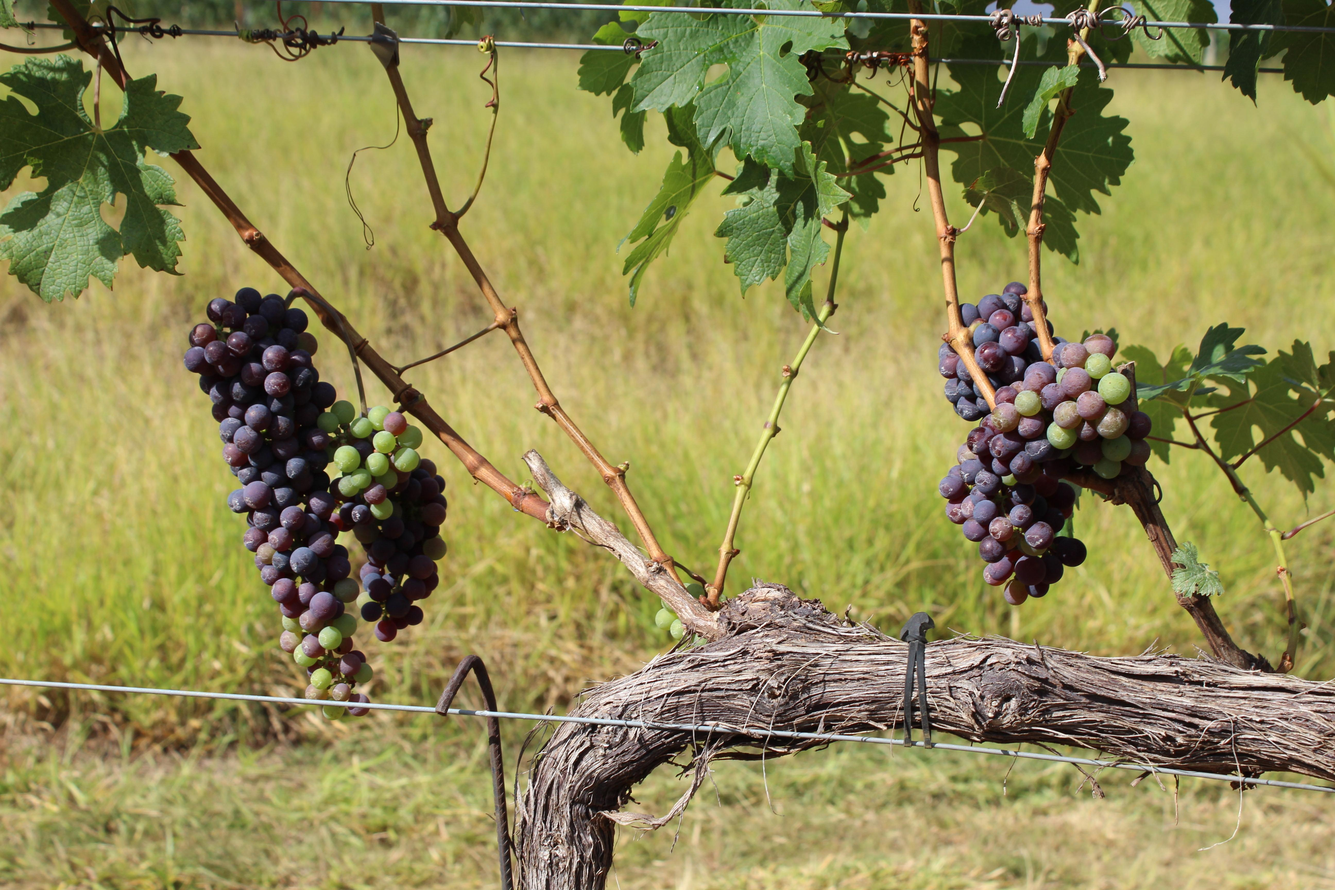leaf: (0, 55, 198, 301), (631, 14, 847, 175), (715, 143, 849, 311), (623, 106, 718, 306), (799, 78, 893, 219), (1119, 344, 1192, 463), (965, 166, 1033, 237), (1269, 31, 1335, 104), (1022, 65, 1079, 139), (1223, 30, 1272, 102), (1133, 28, 1210, 65), (1171, 542, 1223, 596), (1044, 196, 1078, 262), (1129, 0, 1217, 23), (1283, 0, 1335, 28), (1230, 0, 1285, 25), (769, 0, 814, 10), (729, 0, 748, 8)
